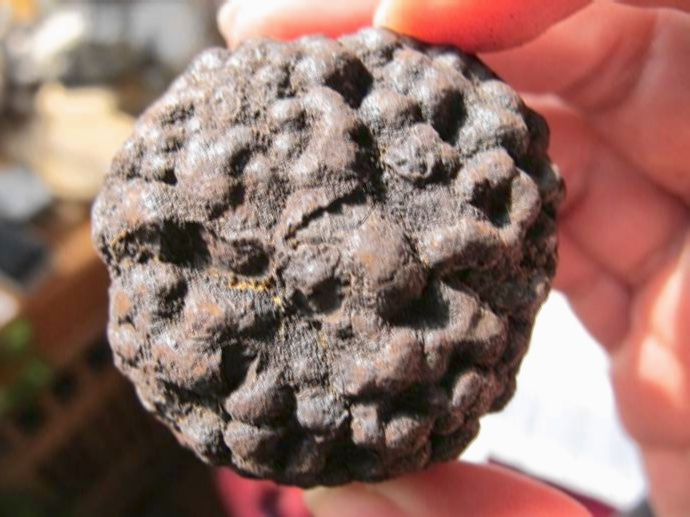halobolite: (87, 32, 566, 489)
